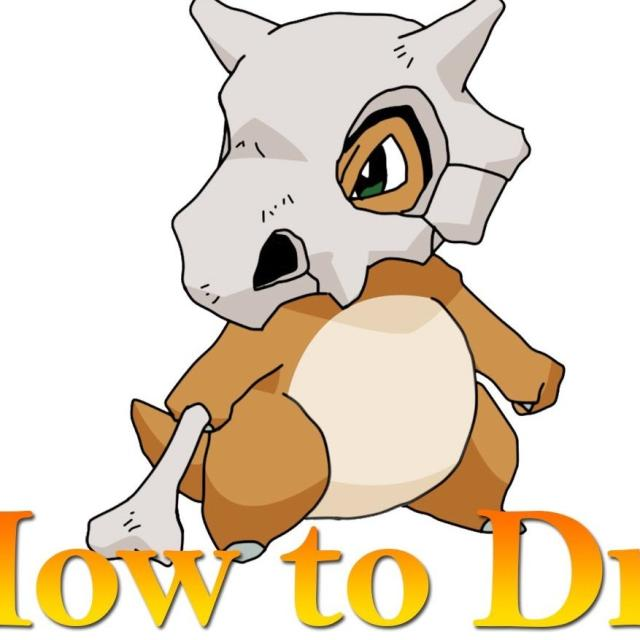Cubone: (117, 2, 549, 530)
